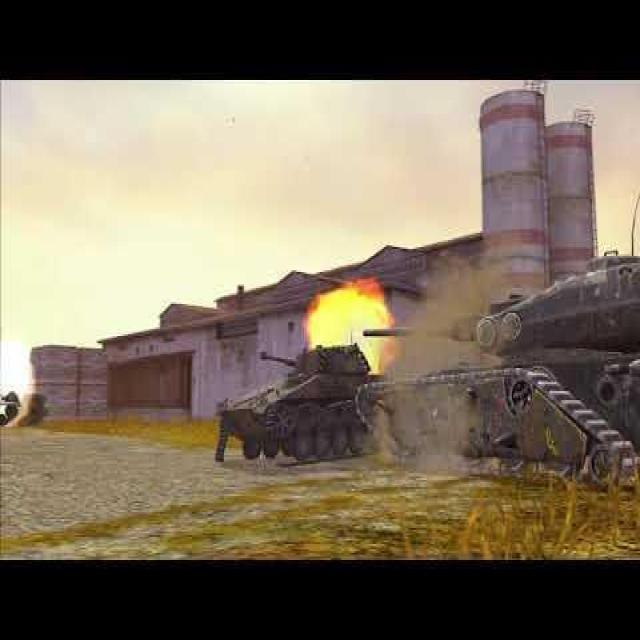Tanks: (356, 322, 568, 498), (213, 339, 352, 465)
